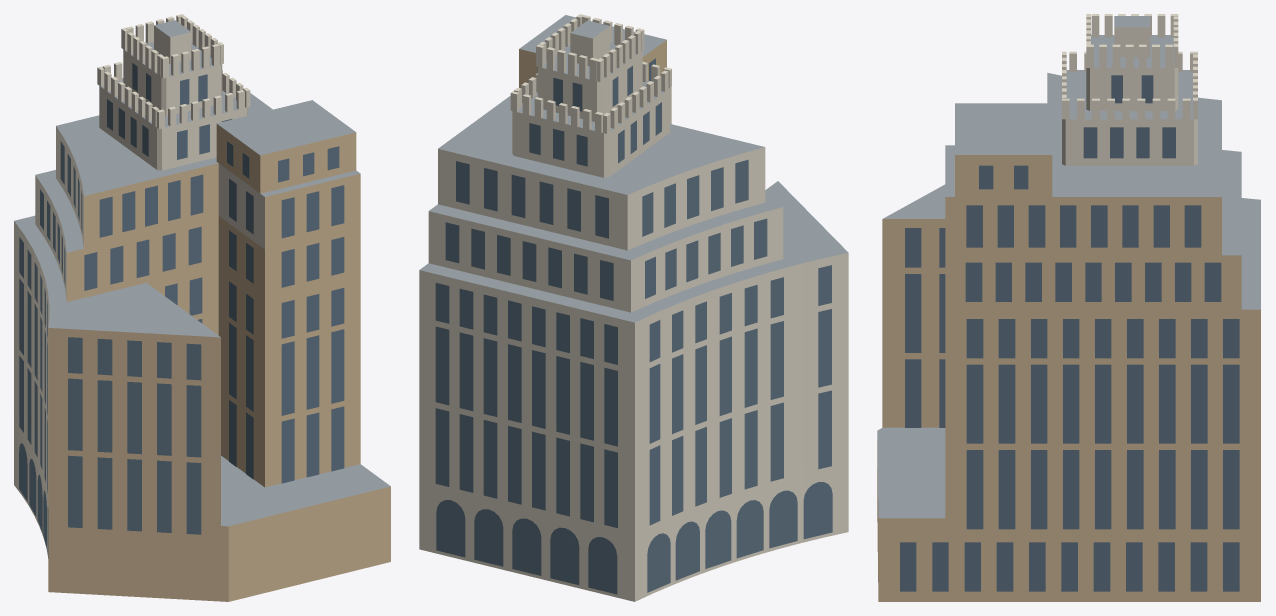
File: indy-circle-tower.glb
3 renders of one model, left to right at view 1: azimuth 30°, elevation 25°; view 2: azimuth 150°, elevation 25°; view 3: azimuth 270°, elevation 25°, orthographic. The views are drawn at different scales.
Visible parts, largest first — view 1: Circle Tower; view 2: Circle Tower; view 3: Circle Tower.
Boxes of the visible parts, x1=… form: Circle Tower: x1=14, y1=14, x2=390, y2=601; Circle Tower: x1=419, y1=14, x2=848, y2=601; Circle Tower: x1=877, y1=14, x2=1260, y2=601.
Size of the model in its own units: 37.91 by 59.6 by 39.56.
